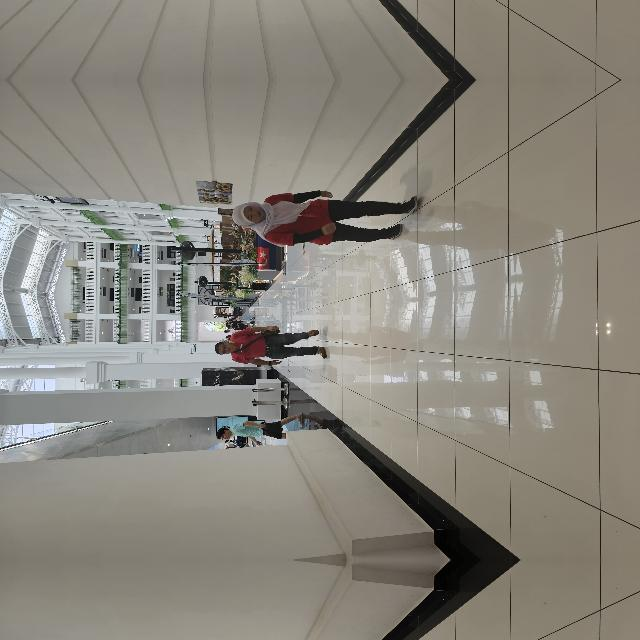person: (314, 312, 371, 498), (194, 294, 234, 406), (113, 296, 147, 384), (313, 622, 370, 640)
